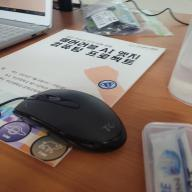mouse: (12, 87, 130, 153)
